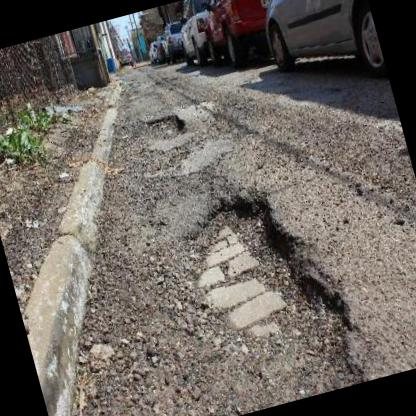pothole: (161, 173, 374, 416), (140, 106, 189, 146)
